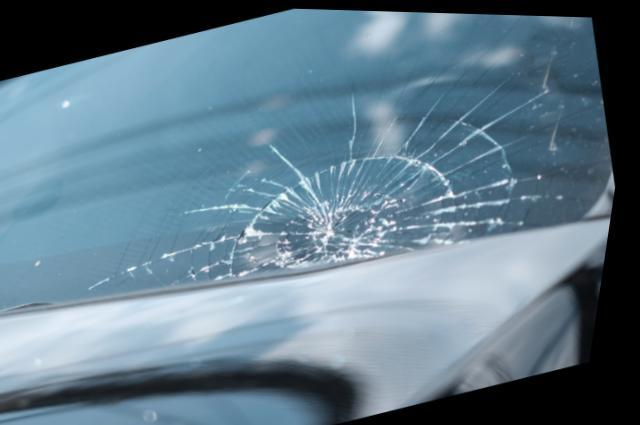glass shatter: (0, 7, 617, 312)
